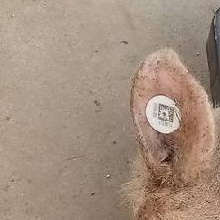text: (139, 91, 187, 139)
